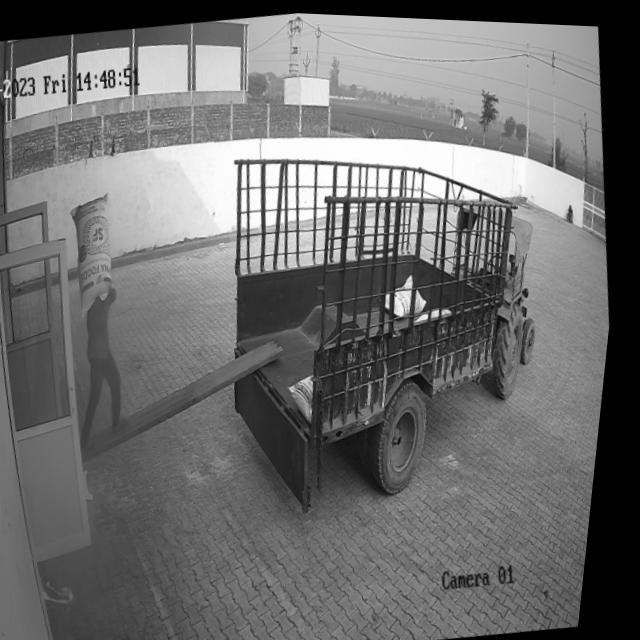sack: (64, 191, 129, 318)
